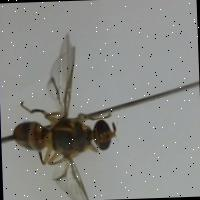Oriental-fruit-fly: (1, 27, 123, 200)
